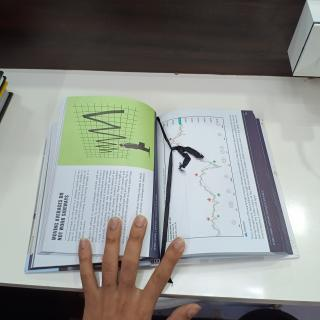book: (35, 92, 298, 270)
